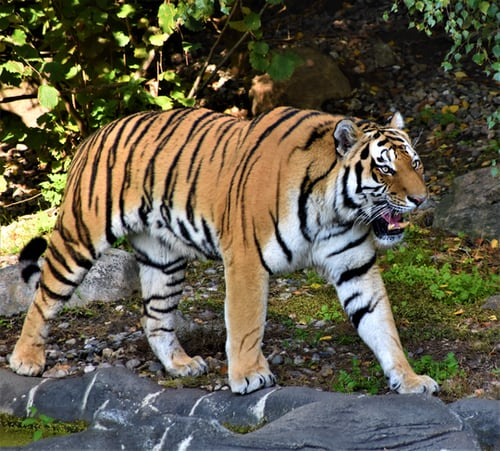tiger: (331, 110, 426, 263)
